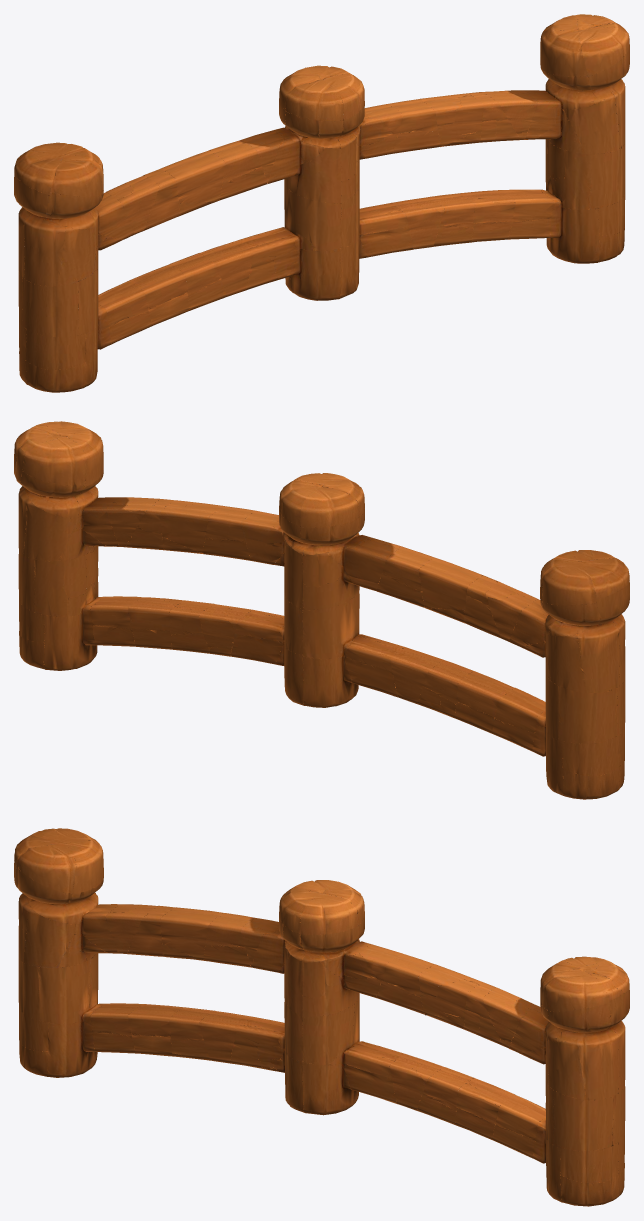
File: wooden-fence.glb
3 renders of one model, top to bottom at view 1: azimuth 30°, elevation 25°; view 2: azimuth 150°, elevation 25°; view 3: azimuth 330°, elevation 25°, orthographic.
Parts seen in each view (by area): view 1: mesh_node; view 2: mesh_node; view 3: mesh_node.
Boxes of the visible parts, x1=… form: mesh_node: x1=14, y1=14, x2=629, y2=392; mesh_node: x1=14, y1=421, x2=629, y2=799; mesh_node: x1=14, y1=828, x2=629, y2=1206.
Bounding box in the file's own units: 1.9 × 0.7107 × 0.2437.
1 material, 1 textured.
